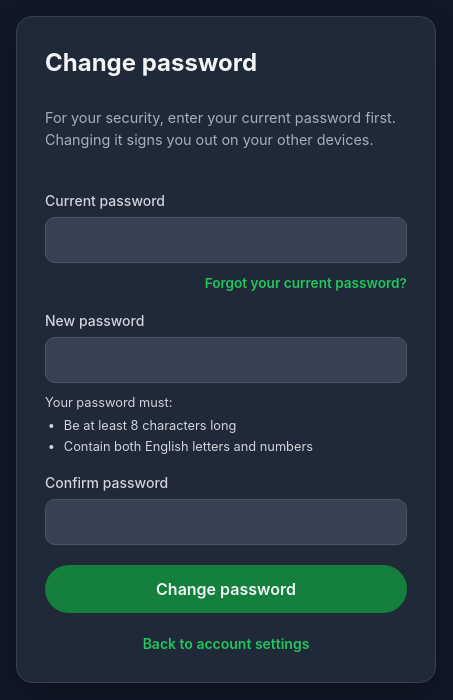
Scenario: ChangePasswordPage › shows a wrong current password under that field
Type "Guess!1234" into the password field labelled "Current password".
click(226, 240); type("Guess!1234")  # box [45,217,407,263]
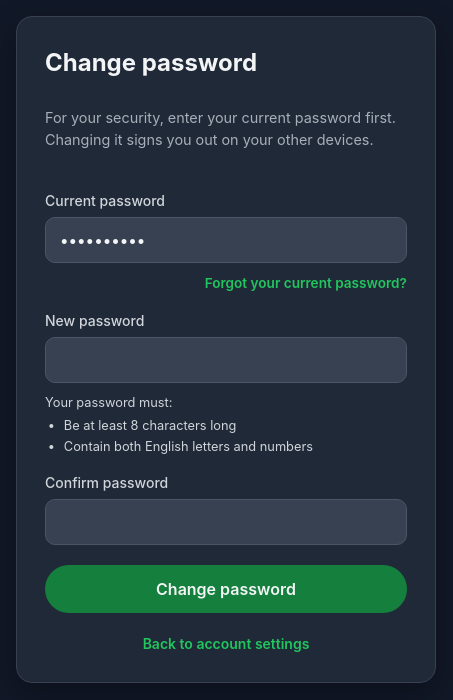
Type "BrandNew!567" into the password field labelled "New password".
click(226, 360); type("BrandNew!567")  # box [45,337,407,383]
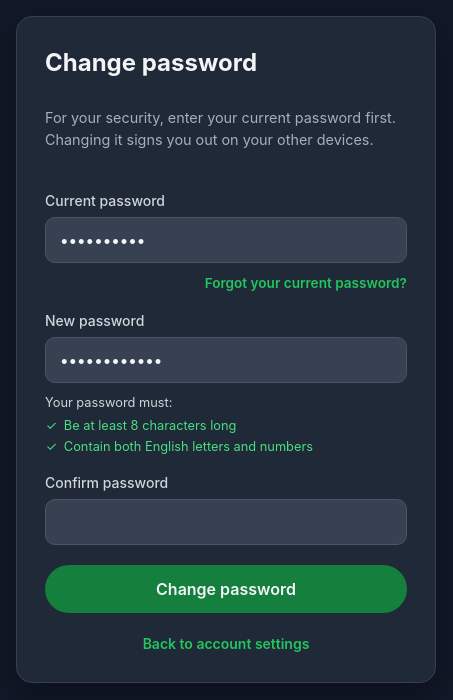
Type "BrandNew!567" into the password field labelled "Confirm password".
click(226, 522); type("BrandNew!567")  # box [45,499,407,545]
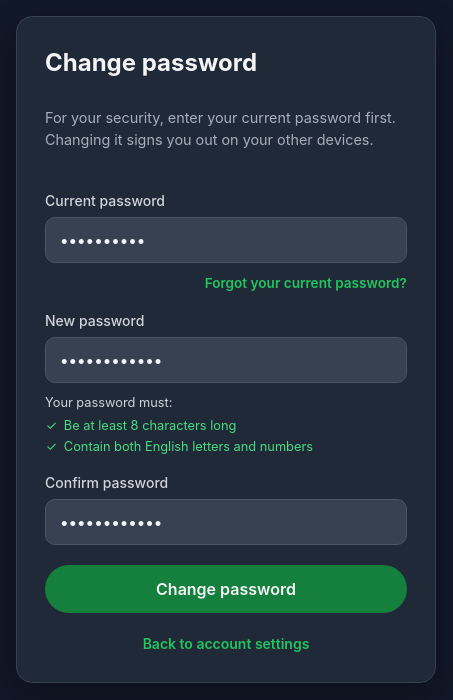
Click the button "Change password".
click(226, 589)  # box [45,565,407,613]
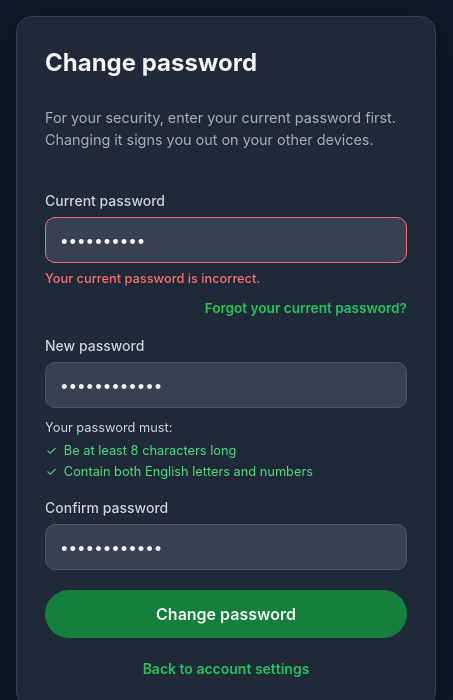
expect the text "Your current password is incorrect." is shown: met, box [45,271,260,286]
